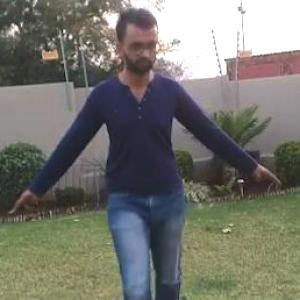land: (18, 25, 270, 299)
